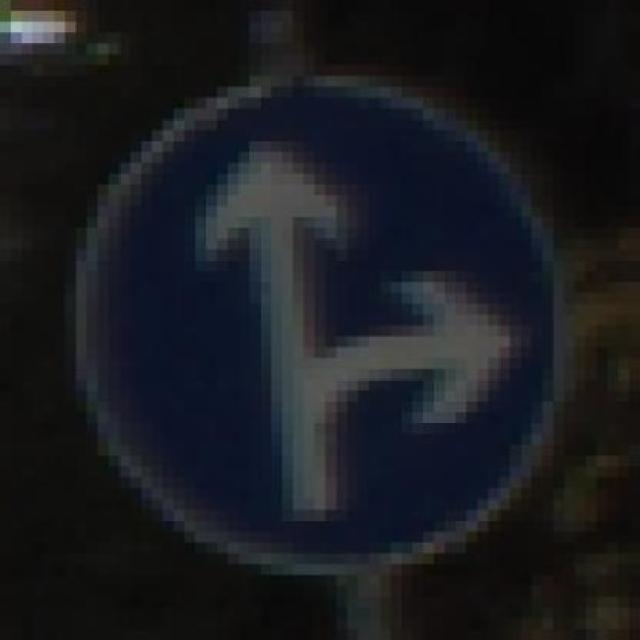Go Straight or Turn Right: (65, 65, 597, 586)
